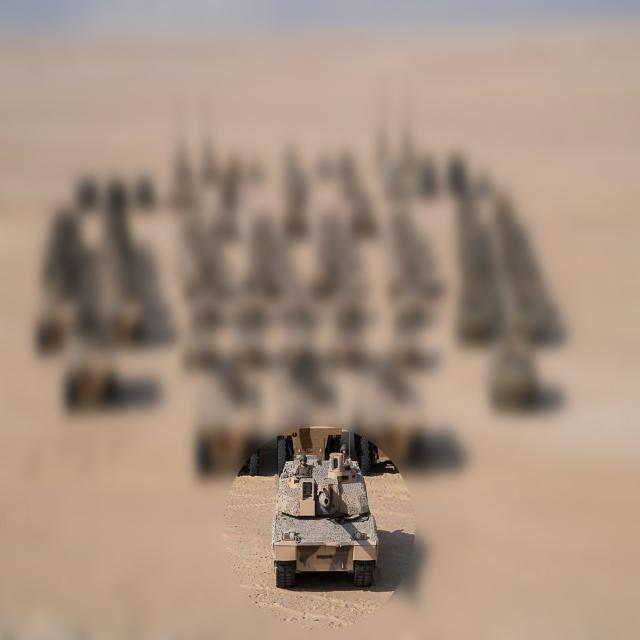tank: (269, 447, 382, 593)
